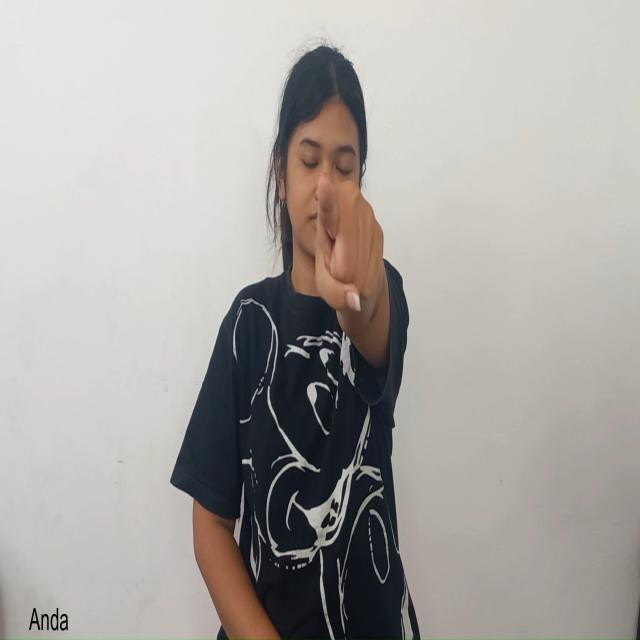Anda -BISINDO-: (267, 164, 405, 371)
